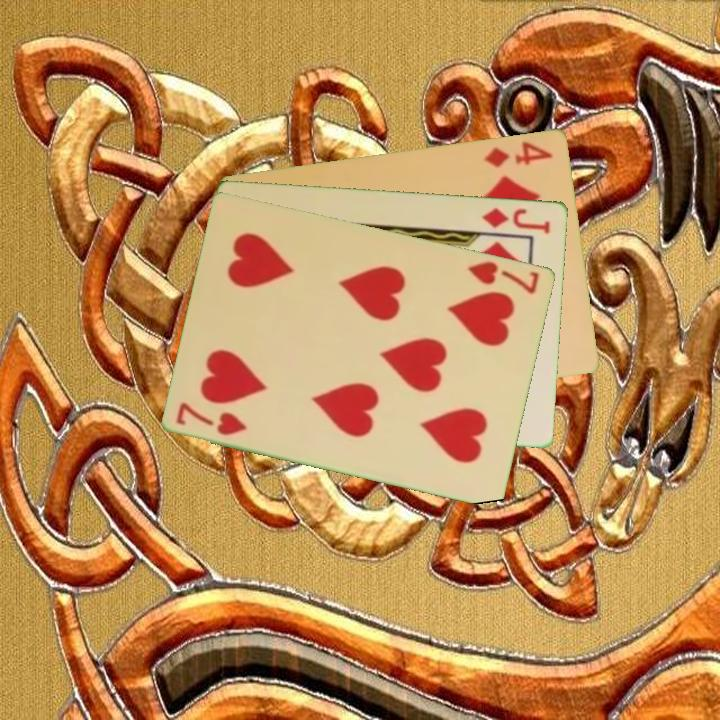4d: (480, 137, 556, 170)
7h: (464, 257, 543, 297), (173, 398, 251, 438)
Jd: (479, 203, 554, 236)
